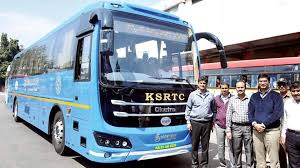bus: (4, 1, 229, 165), (169, 56, 300, 107)
